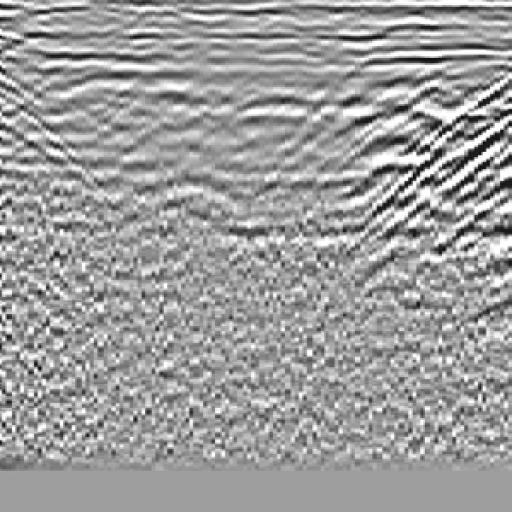metalic: (134, 38, 317, 276)
nonmetalic: (353, 42, 512, 299)
